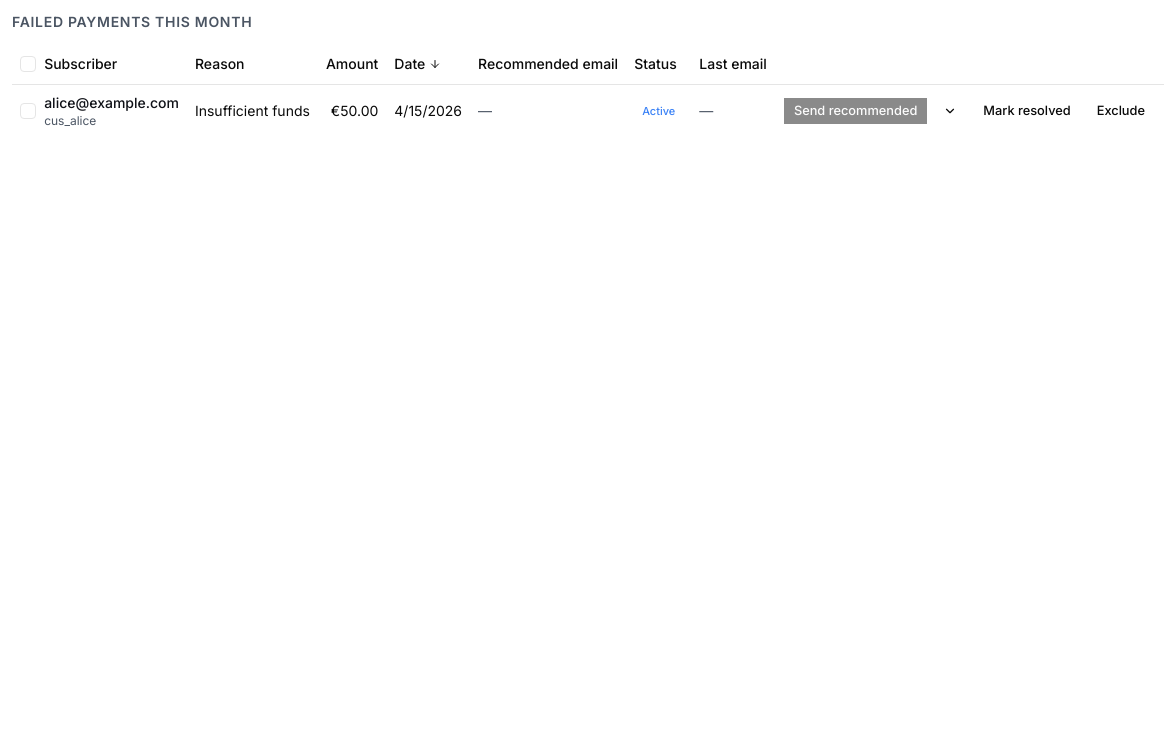
Test: FailedPaymentsList › selecting a row reveals BulkActionToolbar
What coordinates should you click on to do the following:
click the checkbox named "Select row for alice@example.com"
I would click on:
 (28, 110)
Its box is x1=20 y1=102 x2=36 y2=118.
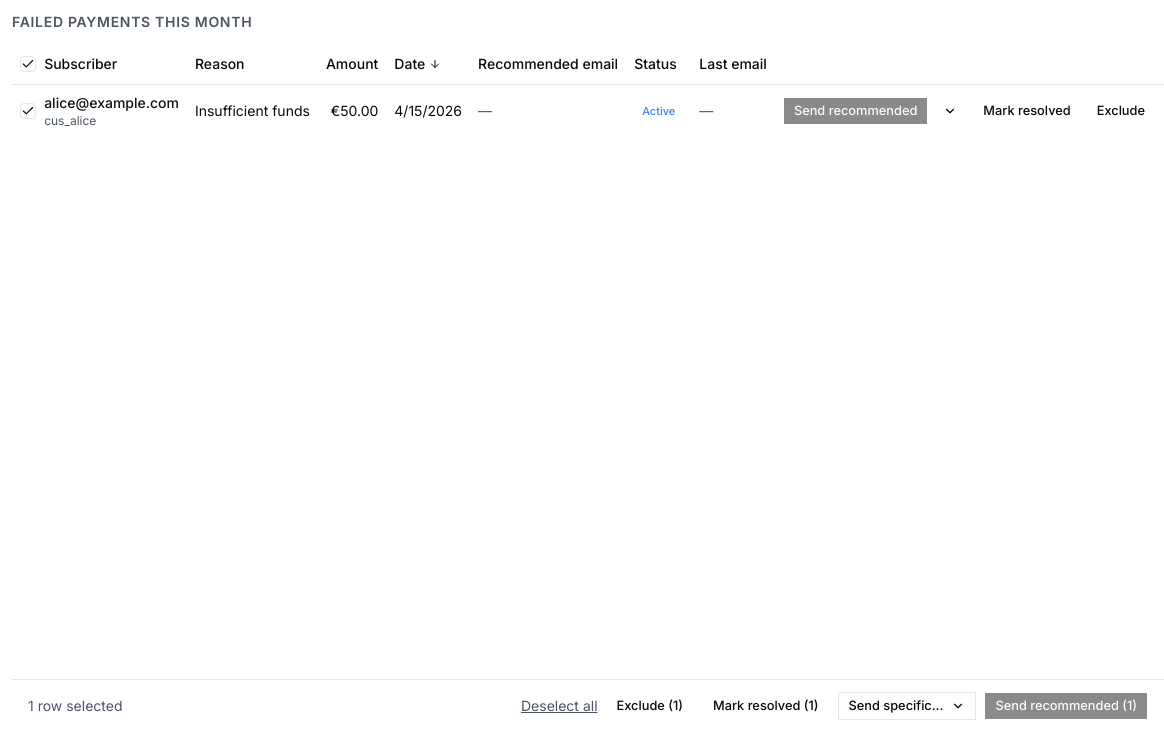
Expected: the element named "Bulk actions" is shown, x1=12 y1=679 x2=1163 y2=731
